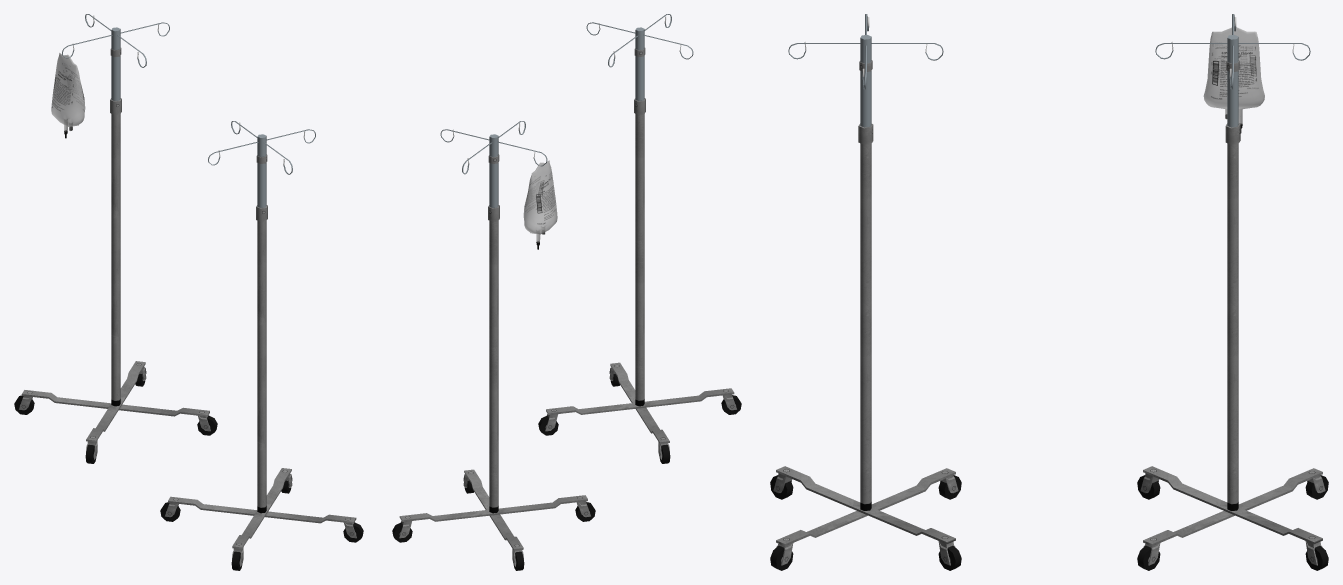
The picture shows the model from 3 angles, left to right: view 1: azimuth 30°, elevation 25°; view 2: azimuth 150°, elevation 25°; view 3: azimuth 270°, elevation 25°; orthographic projection. The views are drawn at different scales.
Parts seen in each view (by area): view 1: Object_2; view 2: Object_2; view 3: Object_2.
Boxes of the visible parts, left/top/right/bottom form: Object_2: left=14, top=14, right=363, bottom=570; Object_2: left=392, top=14, right=741, bottom=570; Object_2: left=770, top=14, right=1328, bottom=570.
Size of the model in its own units: 4.18 by 11.92 by 12.18.
Materials: 1 (1 with a texture image).
